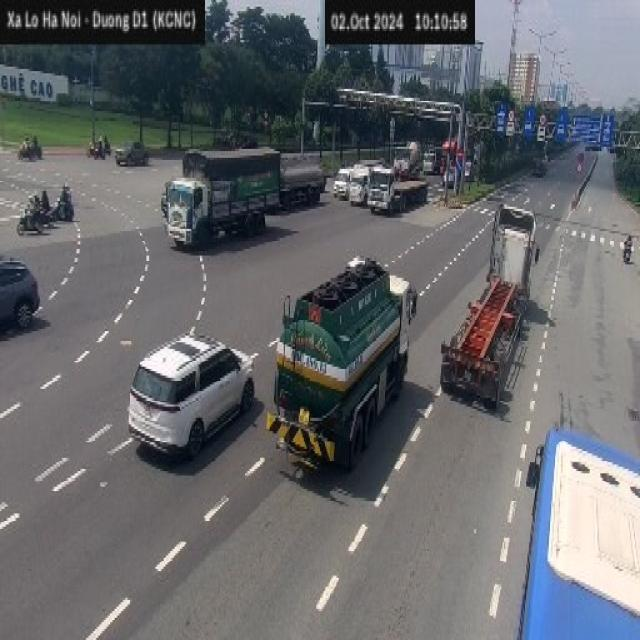bus: (516, 406, 640, 640)
car: (124, 318, 260, 466), (0, 256, 39, 331), (114, 140, 148, 164)
container-truck: (437, 200, 544, 412)
motorcycle: (622, 236, 632, 262)
truck: (265, 254, 417, 474)
